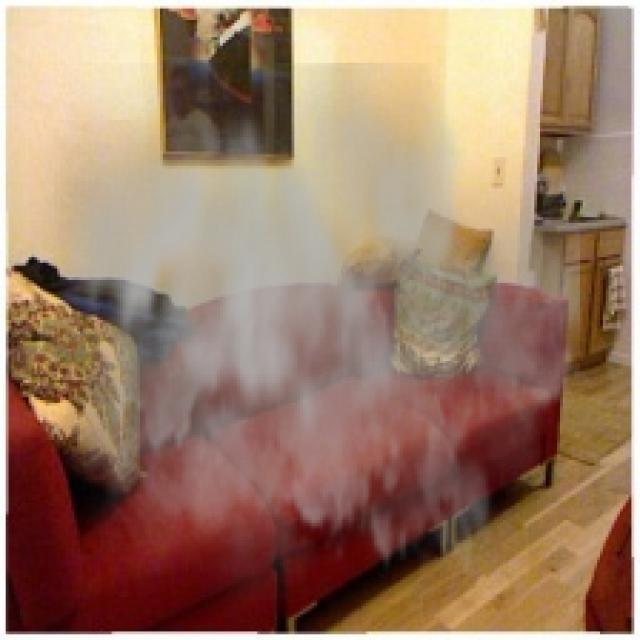Smoke: (28, 62, 580, 628)
